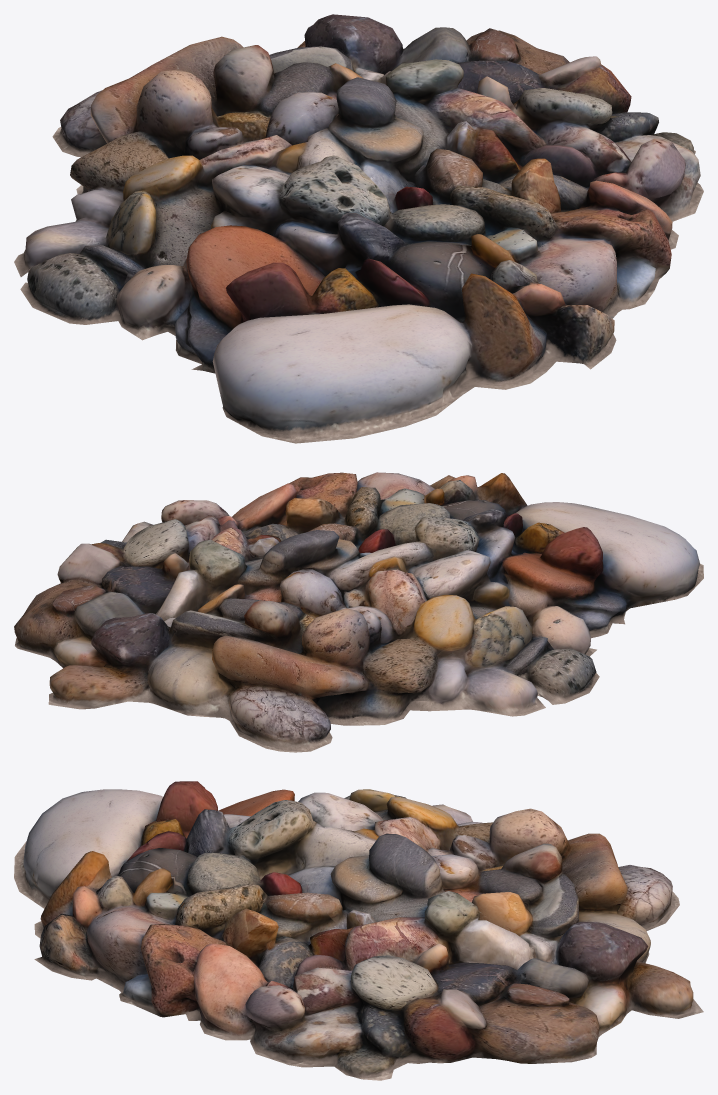
File: uploads_files_5801810_BeachPebbles_LOD.fbx
3 renders of one model, top to bottom at view 1: azimuth 30°, elevation 25°; view 2: azimuth 150°, elevation 25°; view 3: azimuth 270°, elevation 25°, orthographic. The views are drawn at different scales.
Visible parts, largest first — view 1: BeachPebbles_LOD; view 2: BeachPebbles_LOD; view 3: BeachPebbles_LOD.
Part boxes in pixels (<box>): BeachPebbles_LOD: <box>14,14,703,443</box>; BeachPebbles_LOD: <box>14,472,703,752</box>; BeachPebbles_LOD: <box>14,781,703,1080</box>.
Size of the model in its own units: 31.4 by 6.01 by 33.77.
